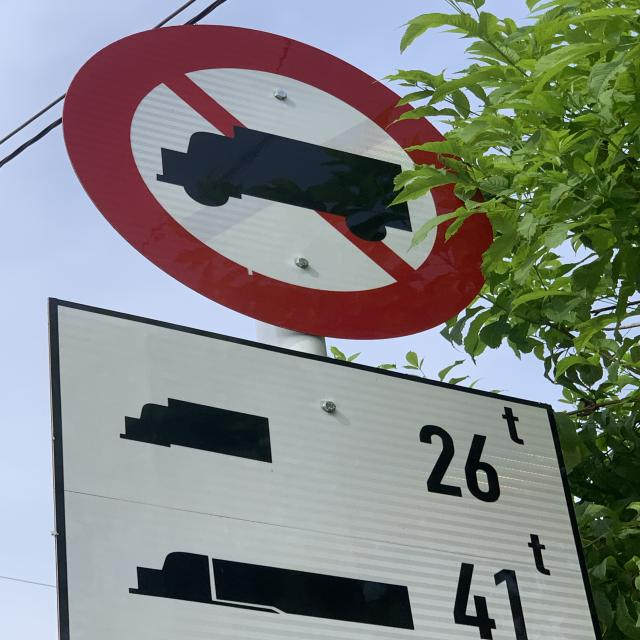Cam_Xe_Tai: (61, 22, 498, 337)
